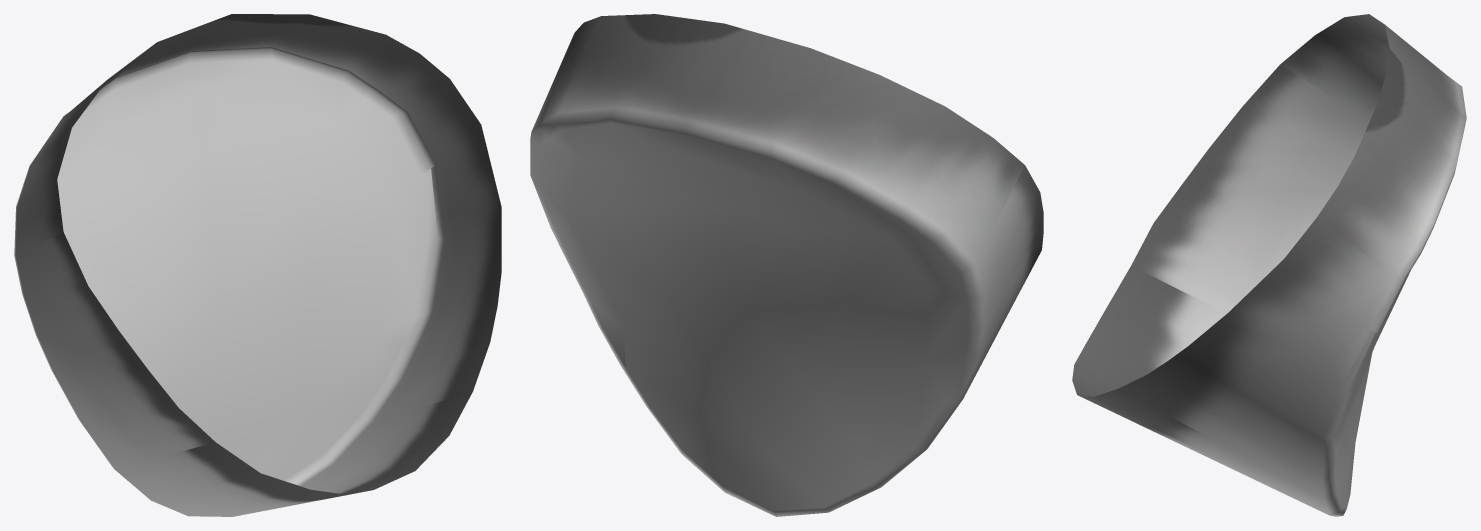
3 renders of one model, left to right at view 1: azimuth 30°, elevation 25°; view 2: azimuth 150°, elevation 25°; view 3: azimuth 270°, elevation 25°, orthographic. The views are drawn at different scales.
Size of the model in its own units: 0.0288 by 0.0312 by 0.0243.
Materials: 1 (1 with a texture image).
